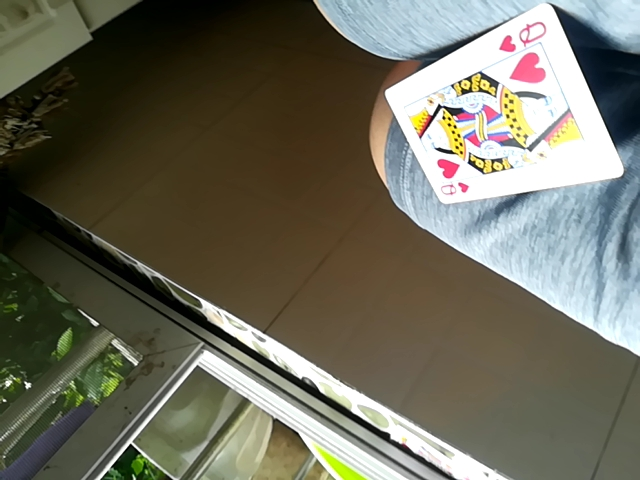hx q: (380, 8, 621, 210)
